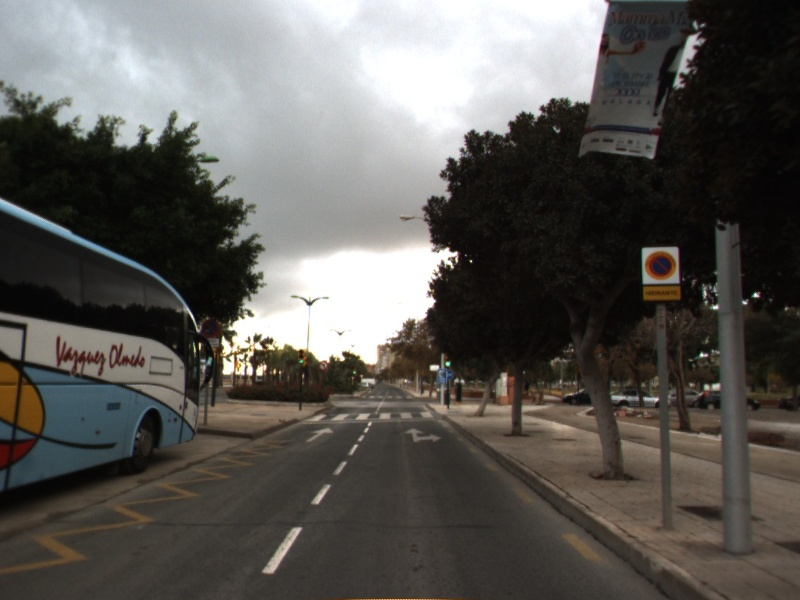STRAIGHT: (303, 425, 336, 444)
STRAIGHT_RIGHT: (401, 425, 445, 444)
